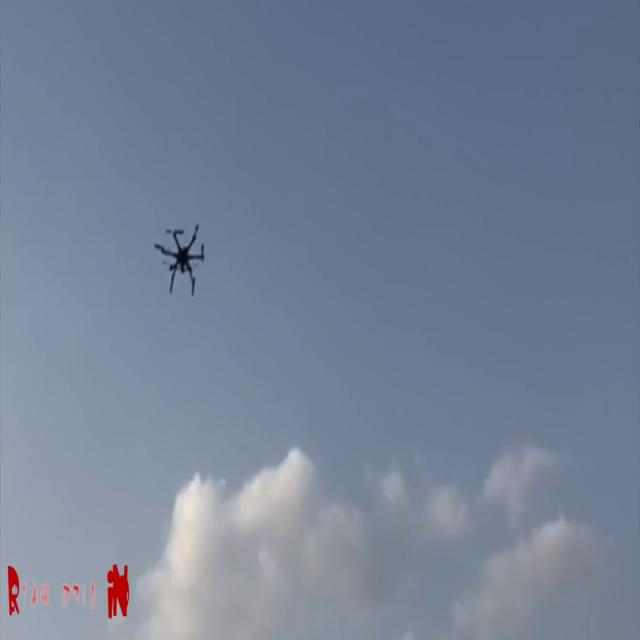drone: (144, 209, 218, 305)
